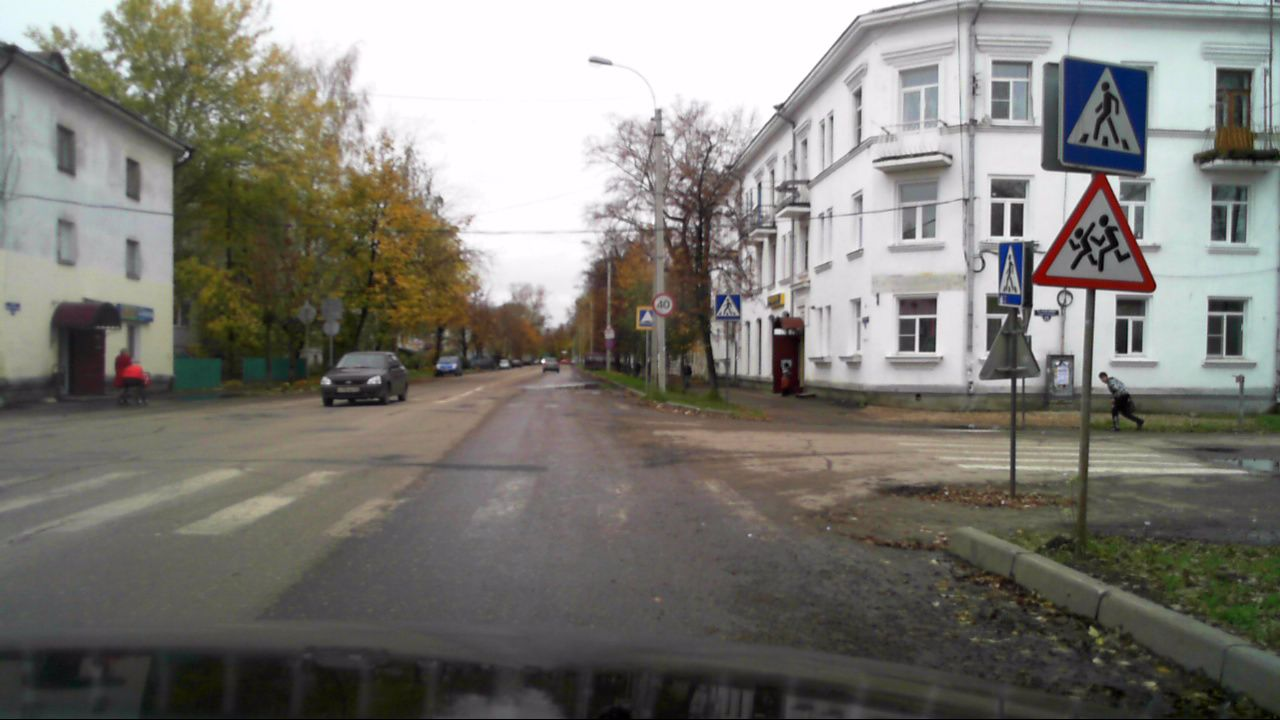speed_warning_40: (651, 293, 675, 317)
